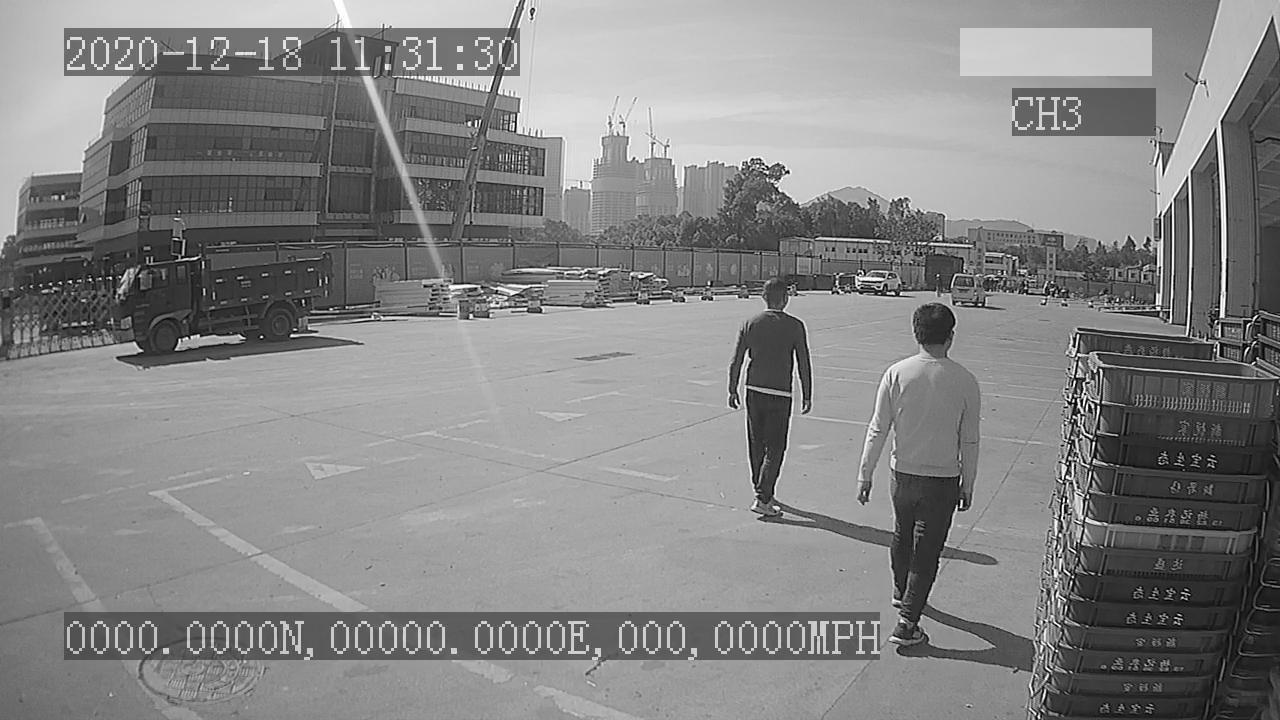person: (728, 273, 811, 524)
